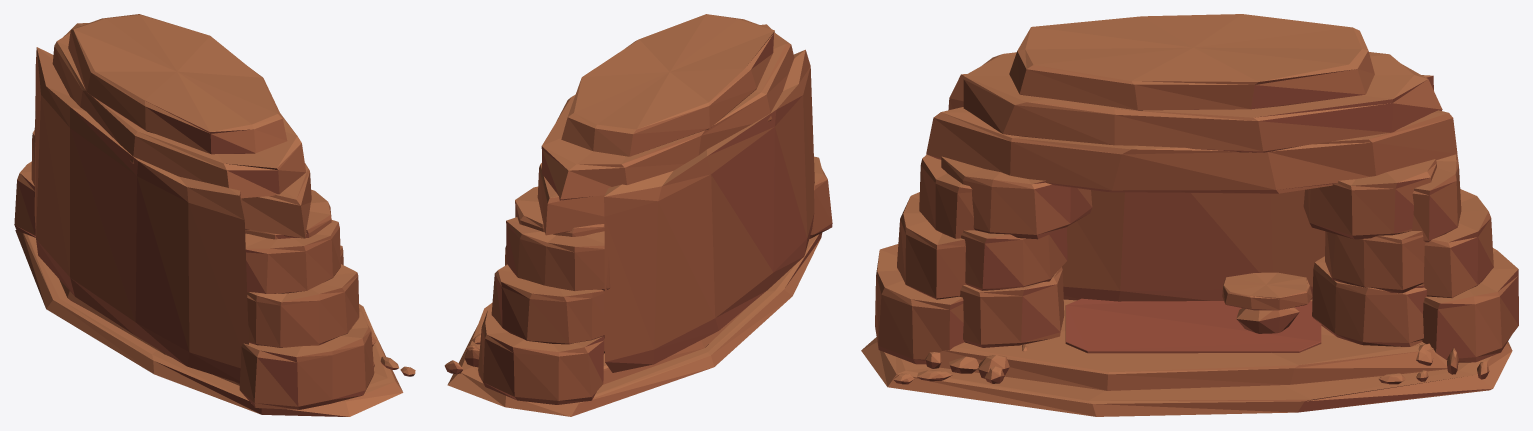
File: asset.glb
The picture shows the model from 3 angles, left to right: view 1: azimuth 30°, elevation 25°; view 2: azimuth 150°, elevation 25°; view 3: azimuth 270°, elevation 25°; orthographic projection. The views are drawn at different scales.
Parts seen in each view (by area): view 1: Recessed fractured back wall, Flat chipped crown, Upper stepped shelf, Chipped apron, Left lower outer buttress, Left middle outer buttress, Left high outer buttress, Overhanging broad lintel, Right lower outer buttress, Left inner arch shoulder, Broad shelter terrace; view 2: Recessed fractured back wall, Flat chipped crown, Upper stepped shelf, Chipped apron, Right lower outer buttress, Right middle outer buttress, Right high outer buttress, Overhanging broad lintel, Right inner arch shoulder, Left lower outer buttress, Broad shelter terrace; view 3: Flat chipped crown, Recessed fractured back wall, Overhanging broad lintel, Upper stepped shelf, Chipped apron, Broad shelter terrace, Shelter floor, Left inner arch shoulder, Right lower outer buttress, Right inner arch shoulder, Left lower outer buttress, Right inner basal slab (+9 smaller).
Part boxes in pixels (left/top/right/bottom): Recessed fractured back wall: left=34, top=47, right=248, bottom=382; Flat chipped crown: left=68, top=14, right=287, bottom=154; Upper stepped shelf: left=52, top=23, right=305, bottom=198; Chipped apron: left=15, top=230, right=403, bottom=416; Left lower outer buttress: left=239, top=312, right=374, bottom=409; Left middle outer buttress: left=247, top=264, right=359, bottom=347; Left high outer buttress: left=245, top=220, right=340, bottom=293; Overhanging broad lintel: left=242, top=163, right=311, bottom=238; Right lower outer buttress: left=14, top=161, right=35, bottom=237; Left inner arch shoulder: left=245, top=189, right=331, bottom=239; Broad shelter terrace: left=59, top=279, right=239, bottom=385; Recessed fractured back wall: left=604, top=49, right=814, bottom=372; Flat chipped crown: left=561, top=14, right=774, bottom=156; Upper stepped shelf: left=541, top=24, right=794, bottom=200; Chipped apron: left=447, top=233, right=822, bottom=416; Right lower outer buttress: left=478, top=309, right=604, bottom=404; Right middle outer buttress: left=491, top=264, right=604, bottom=344; Right high outer buttress: left=506, top=217, right=610, bottom=290; Overhanging broad lintel: left=537, top=163, right=604, bottom=235; Right inner arch shoulder: left=515, top=186, right=604, bottom=236; Left lower outer buttress: left=809, top=156, right=832, bottom=238; Broad shelter terrace: left=603, top=306, right=748, bottom=384; Flat chipped crown: left=1009, top=14, right=1374, bottom=110; Recessed fractured back wall: left=948, top=74, right=1433, bottom=301; Overhanging broad lintel: left=926, top=107, right=1457, bottom=193; Upper stepped shelf: left=963, top=52, right=1442, bottom=152; Chipped apron: left=861, top=337, right=1512, bottom=416; Broad shelter terrace: left=939, top=299, right=1447, bottom=390; Shelter floor: left=1065, top=298, right=1321, bottom=353; Left inner arch shoulder: left=941, top=156, right=1092, bottom=239; Right lower outer buttress: left=1422, top=248, right=1518, bottom=362; Right inner arch shoulder: left=1303, top=159, right=1436, bottom=239; Left lower outer buttress: left=875, top=244, right=964, bottom=364; Right inner basal slab: left=1312, top=256, right=1426, bottom=346.
Size of the model in its own units: 5.4 by 5.47 by 11.32.
